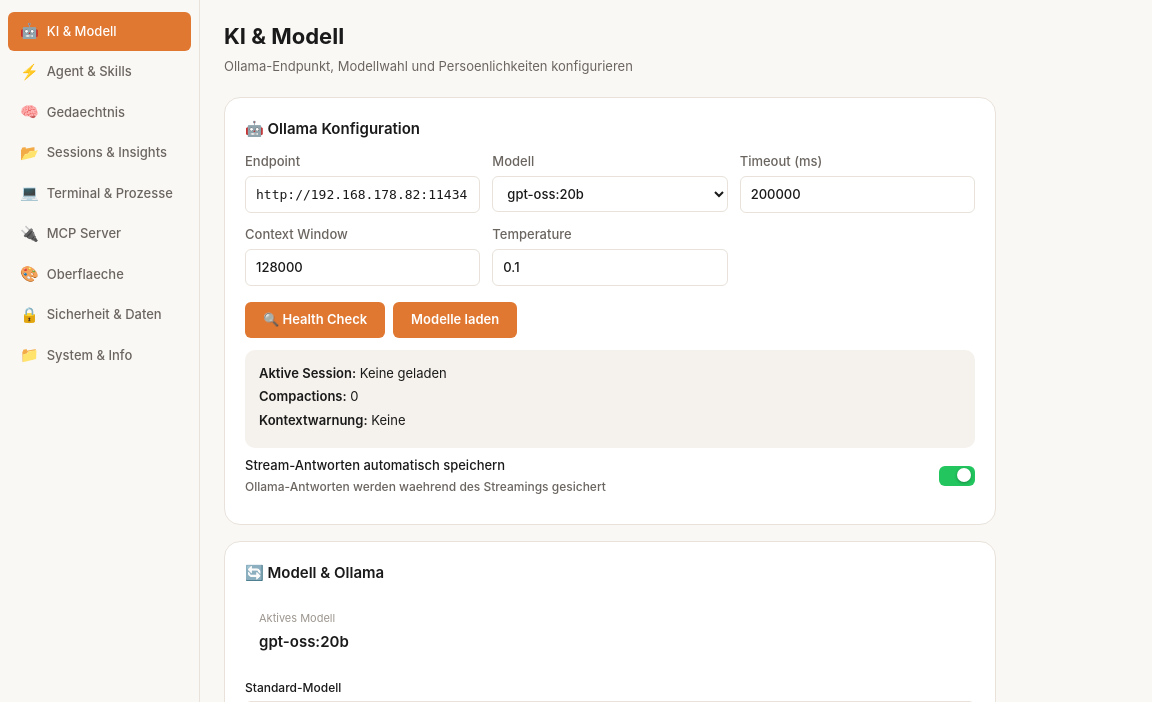
Test case: SettingsView › switches to Sicherheit & Daten category
Click the text "Sicherheit & Daten". click: (104, 315)
box: [47,305,162,324]
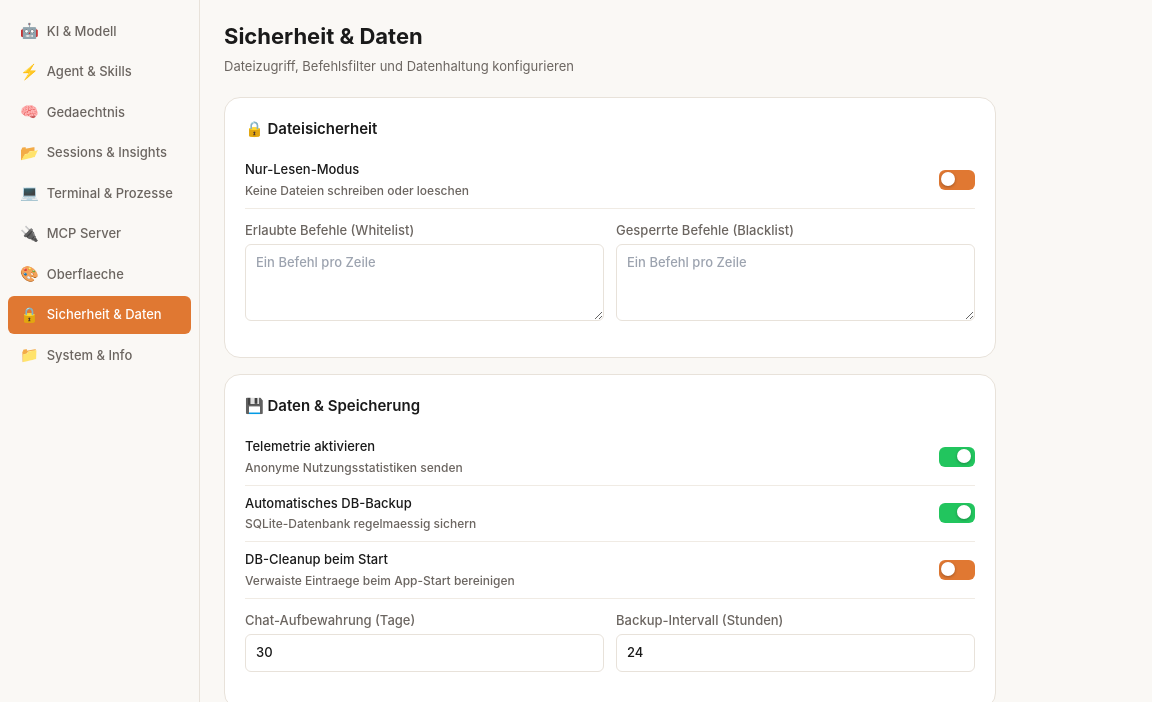
Result: the heading "Sicherheit & Daten" is shown at [224,23,423,49]
Result: the text "Nur-Lesen-Modus" is shown at [245,161,359,177]
